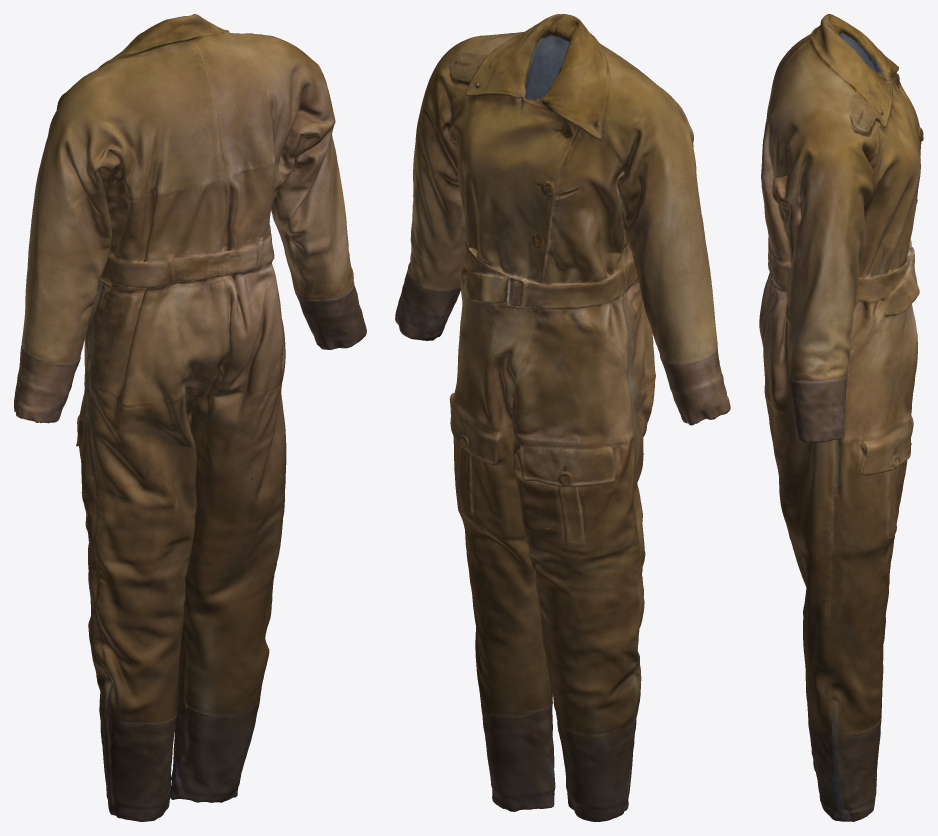
The model's file is earhart-100k-2048_std_draco.glb.
The picture shows the model from 3 angles, left to right: view 1: azimuth 30°, elevation 25°; view 2: azimuth 150°, elevation 25°; view 3: azimuth 270°, elevation 25°; orthographic projection. The views are drawn at different scales.
Visible parts, largest first — view 1: earhart-100k; view 2: earhart-100k; view 3: earhart-100k.
Part boxes in pixels (x1=…): earhart-100k: x1=14, y1=14, x2=366, y2=821; earhart-100k: x1=395, y1=14, x2=730, y2=821; earhart-100k: x1=759, y1=14, x2=923, y2=821.
Size of the model in its own units: 0.00272 by 0.00609 by 0.00117.
1 material, 1 textured.
